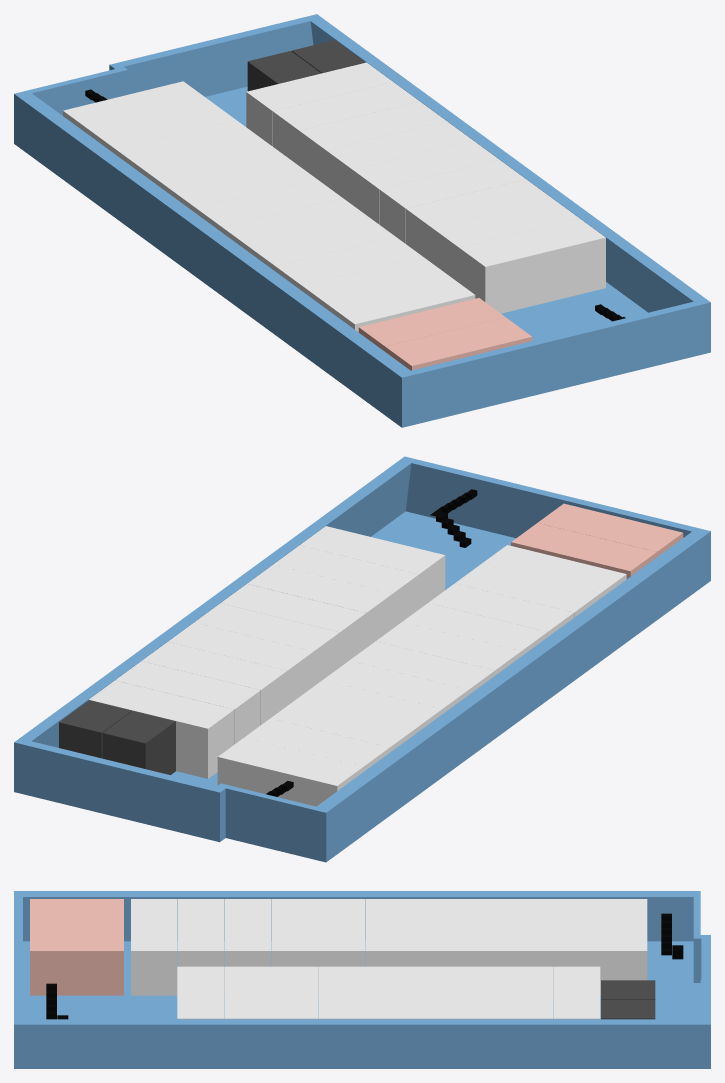
3 views of the same model, one above another, from view 1: azimuth 30°, elevation 25°; view 2: azimuth 150°, elevation 25°; view 3: azimuth 270°, elevation 25° (orthographic). The views are drawn at different scales.
Parts seen in each view (by area): view 1: object, 3420研究室, 3416研究室, 3417研究室, 3412研究室, 3413研究室, 3419研究室, 3414研究室, 3415研究室, 3418研究室, 女子トイレ_3_4, 3401研究室 (+12 smaller); view 2: object, エレベーター, 3411研究室, 3412研究室, 3414研究室, 3418研究室, 3413研究室, 3417研究室, 3415研究室, 3420研究室, 3416研究室, 3419研究室 (+13 smaller); view 3: object, 3401研究室, 男子トイレ_3_4, 女子トイレ_3_4, 3411研究室, 3409研究室, 3410研究室, 3405研究室, 3407研究室, 3408研究室, 3402研究室, 3404研究室 (+14 smaller).
Part boxes in pixels (x1,y1,x2,y2): object: (14,14,710,427); 3420研究室: (459,218,605,313); 3416研究室: (352,140,499,224); 3417研究室: (379,160,525,243); 3412研究室: (246,62,392,146); 3413研究室: (273,82,419,165); 3419研究室: (432,198,578,282); 3414研究室: (299,101,445,185); 3415研究室: (326,121,472,204); 3418研究室: (406,179,552,262); 女子トイレ_3_4: (385,317,532,370); 3401研究室: (328,275,475,331); object: (14,456,710,862); エレベーター: (59,700,175,774); 3411研究室: (217,737,363,806); 3412研究室: (89,680,234,778); 3414研究室: (142,642,287,724); 3418研究室: (247,564,392,647); 3413研究室: (115,661,260,744); 3417研究室: (221,584,366,666); 3415研究室: (168,622,313,705); 3420研究室: (300,526,445,609); 3416研究室: (194,603,339,686); 3419研究室: (273,545,418,628); object: (14,891,710,1068); 3401研究室: (131,899,177,995); 男子トイレ_3_4: (77,899,123,995); 女子トイレ_3_4: (30,899,76,995); 3411研究室: (600,899,647,995); 3409研究室: (506,899,553,995); 3410研究室: (553,899,600,995); 3405研究室: (318,899,365,966); 3407研究室: (412,899,459,966); 3408研究室: (459,899,506,966); 3402研究室: (178,899,224,995); 3404研究室: (272,899,318,995).
Size of the model in its own units: 1.15 by 0.1852 by 2.54.
